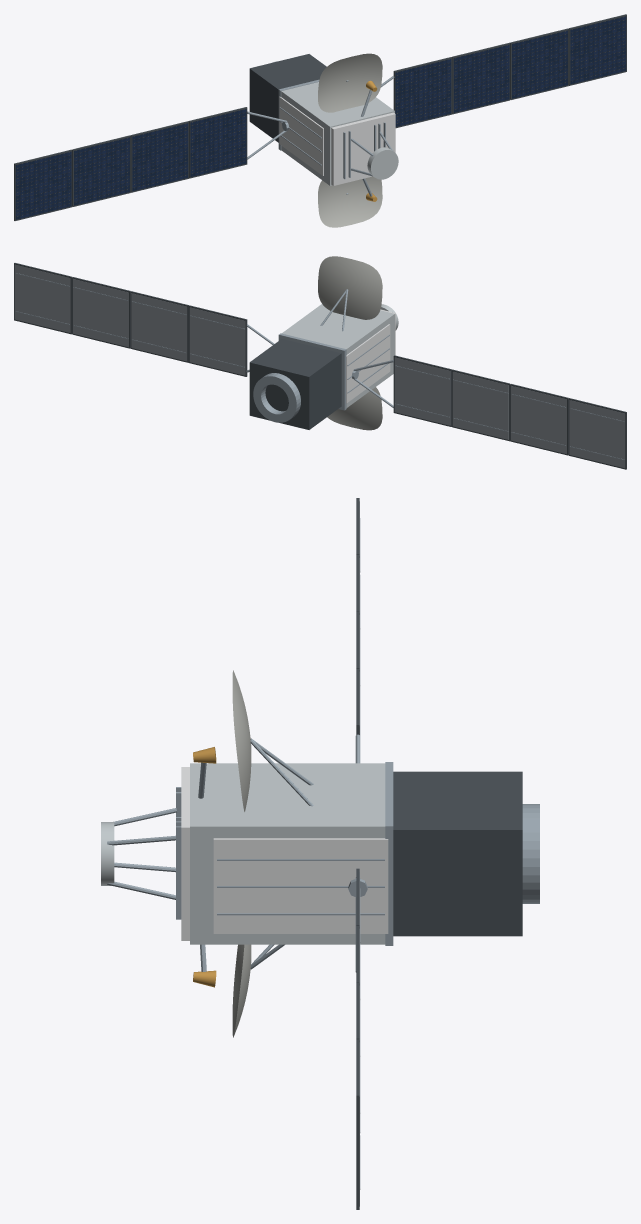
The model's file is ref-osc-star-2-4e-39079.glb.
3 renders of one model, top to bottom at view 1: azimuth 30°, elevation 25°; view 2: azimuth 150°, elevation 25°; view 3: azimuth 270°, elevation 25°, orthographic. The views are drawn at different scales.
Visible parts, largest first — view 1: Solar cell panel (×8), Communications reflector (×2), Solar panel frame (×8), Service module, Earth-facing deck, Payload module, Radiator face, Antenna tower platform; view 2: Rear array substrate (×8), Service module, Communications reflector (×2), Solar panel frame (×8), Payload module, Radiator face, Launch adapter ring, Module interface; view 3: Service module, Payload module, Radiator face, Communications reflector (×2), Launch adapter ring, Earth-facing deck, Module interface.
Part boxes in pixels (x1,y1,x2,y2): Solar cell panel (×8): (15,16,626,219); Communications reflector (×2): (318,53,382,227); Solar panel frame (×8): (14,14,626,220); Service module: (249,54,326,142); Earth-facing deck: (331,112,395,185); Payload module: (281,82,394,185); Radiator face: (279,96,323,175); Antenna tower platform: (367,147,398,179); Rear array substrate (×8): (14,264,625,468); Service module: (249,339,341,429); Communications reflector (×2): (318,256,382,430); Solar panel frame (×8): (14,263,626,469); Payload module: (282,304,394,407); Radiator face: (346,324,390,403); Launch adapter ring: (253,373,300,422); Module interface: (278,333,346,410); Service module: (393,771,522,936); Payload module: (190,763,385,944); Radiator face: (213,838,388,933); Communications reflector (×2): (232,670,251,1037); Launch adapter ring: (522,804,539,903); Earth-facing deck: (181,767,189,940); Module interface: (385,762,393,945).
Size of the model in its own units: 23.58 by 6.19 by 7.32.
Materials: 8 (1 with a texture image).
